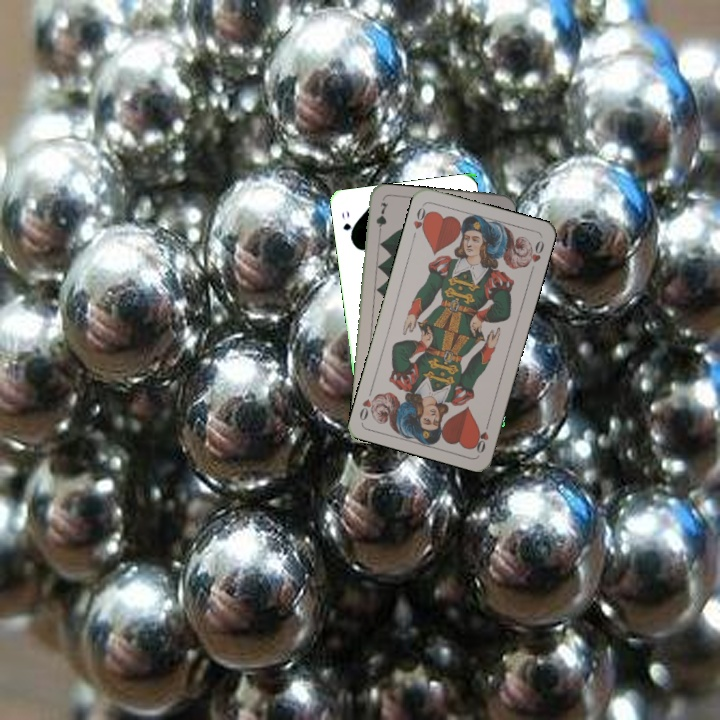G7: (372, 198, 390, 239)
GO: (338, 206, 356, 244)
HO: (409, 202, 432, 242), (470, 416, 492, 456)
